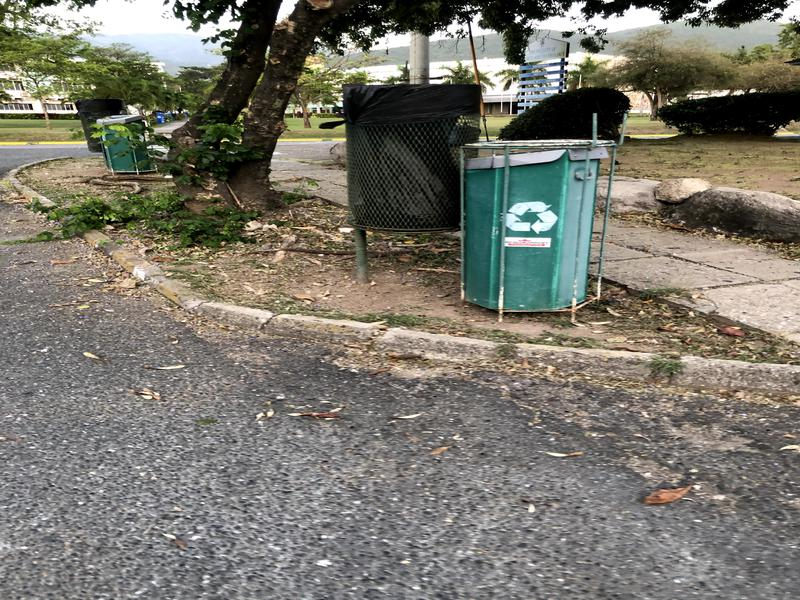18.0053245_-76.7486424_recyclebin: (448, 128, 626, 327)
